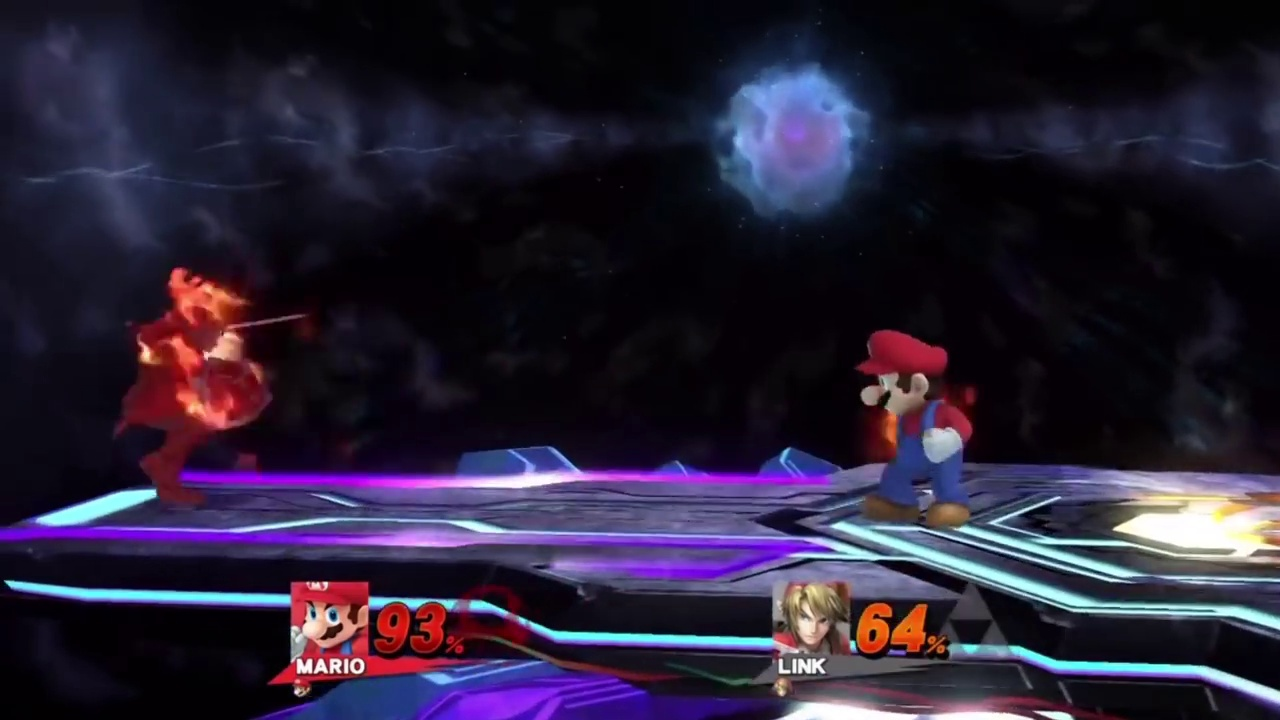Mario: (857, 329, 976, 528)
